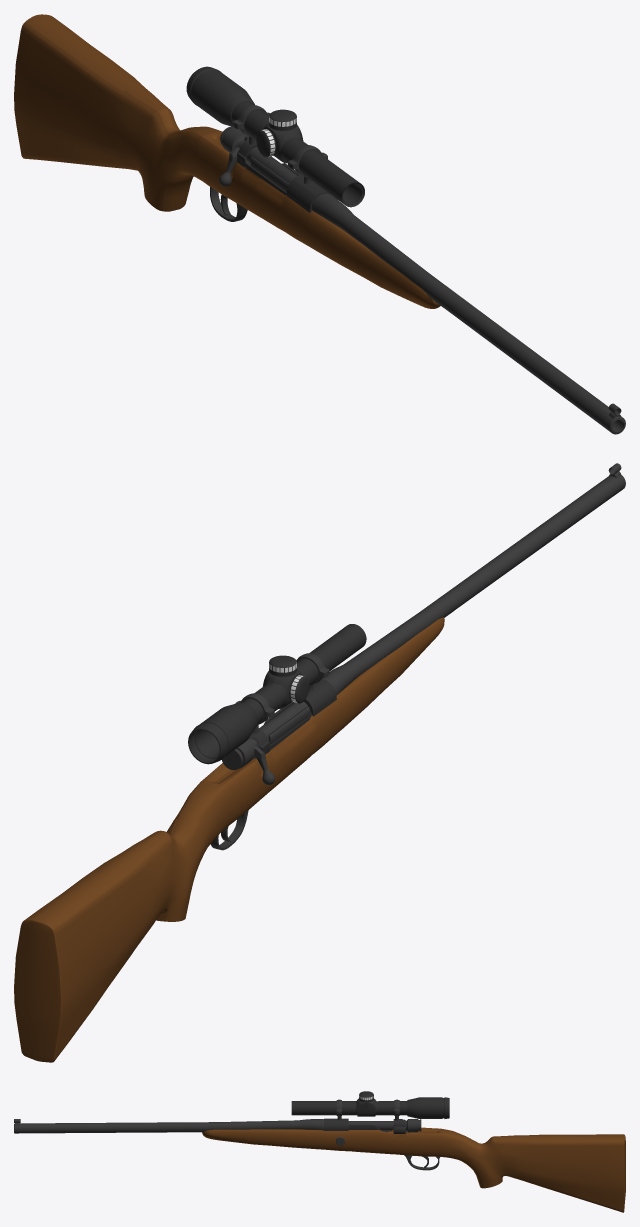
The model's file is HuntingRifle.fbx.
The picture shows the model from 3 angles, top to bottom: view 1: azimuth 30°, elevation 25°; view 2: azimuth 150°, elevation 25°; view 3: azimuth 270°, elevation 25°; orthographic projection. The views are drawn at different scales.
Visible parts, largest first — view 1: Stock, Scope, Barrel_Long, Barrel_Short, Slide, Chamber, Rings; view 2: Stock, Scope, Barrel_Long, Barrel_Short, Slide, Chamber; view 3: Stock, Barrel_Long, Scope, Chamber, Slide, Rings.
Part boxes in pixels (x1=…): Stock: x1=14, y1=14, x2=440, y2=308; Scope: x1=186, y1=66, x2=364, y2=207; Barrel_Long: x1=324, y1=193, x2=625, y2=434; Barrel_Short: x1=311, y1=193, x2=443, y2=307; Slide: x1=219, y1=126, x2=297, y2=191; Chamber: x1=237, y1=136, x2=329, y2=212; Rings: x1=233, y1=105, x2=327, y2=184; Stock: x1=14, y1=617, x2=444, y2=1062; Scope: x1=188, y1=624, x2=366, y2=764; Barrel_Long: x1=322, y1=475, x2=625, y2=679; Barrel_Short: x1=323, y1=605, x2=456, y2=694; Slide: x1=222, y1=701, x2=310, y2=784; Chamber: x1=248, y1=679, x2=336, y2=758; Stock: x1=202, y1=1127, x2=625, y2=1212; Barrel_Long: x1=14, y1=1119, x2=323, y2=1133; Scope: x1=291, y1=1097, x2=449, y2=1118; Chamber: x1=324, y1=1118, x2=408, y2=1133; Slide: x1=348, y1=1119, x2=421, y2=1132; Rings: x1=336, y1=1099, x2=399, y2=1120.
Bounding box in the file's own units: 11.94 × 49.22 × 234.
